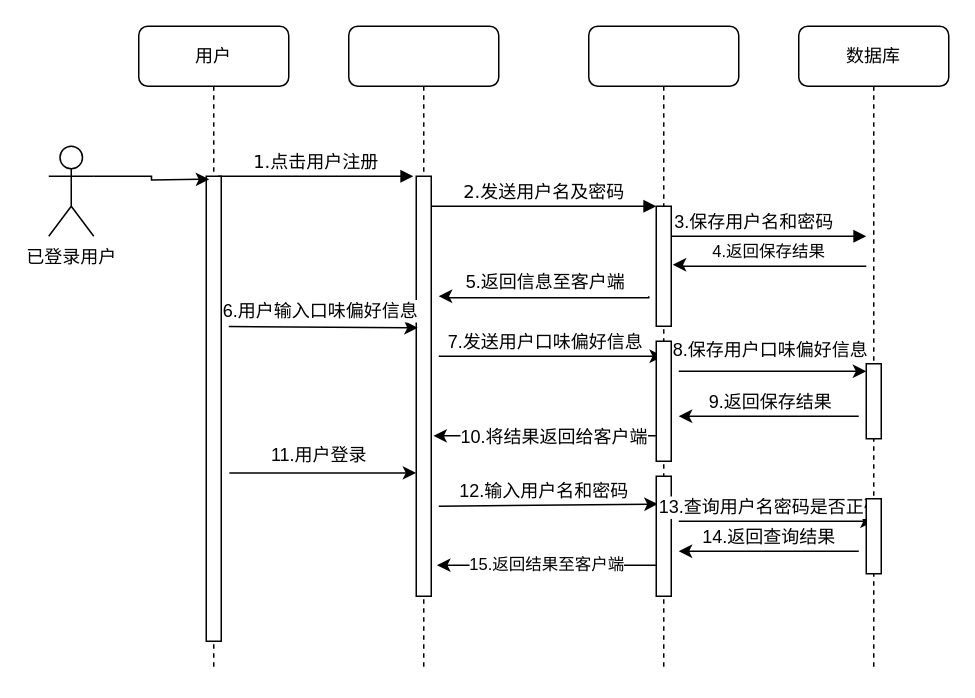
This 975x698 diagram has some shape labels left out. The centre of each missing label's shape, as x and y in pixels:
"客户端" goes at (423,348).
"服务器" goes at (663,348).
